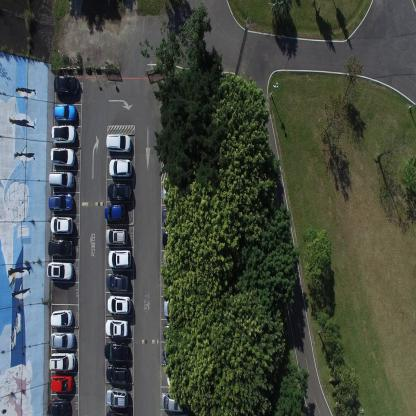car: (160, 390, 186, 413), (106, 132, 132, 154), (49, 350, 75, 372), (53, 75, 80, 96), (107, 181, 132, 203), (51, 124, 76, 145), (47, 261, 73, 281), (48, 192, 74, 212), (49, 147, 76, 166), (106, 362, 129, 384), (50, 372, 74, 393), (163, 278, 189, 297), (48, 238, 74, 257), (162, 182, 184, 204), (161, 206, 184, 227), (108, 158, 132, 178), (107, 294, 131, 314), (50, 308, 74, 328), (163, 298, 188, 317), (104, 342, 129, 361), (50, 331, 75, 350), (53, 105, 78, 124), (48, 170, 74, 188), (106, 387, 128, 408), (163, 322, 187, 341), (162, 251, 186, 270), (162, 346, 187, 364), (105, 227, 128, 246), (108, 249, 131, 268), (106, 273, 129, 292), (105, 318, 128, 337), (166, 369, 190, 387), (162, 230, 186, 248), (104, 204, 127, 222), (50, 216, 73, 234), (48, 397, 70, 415), (106, 408, 131, 415)
